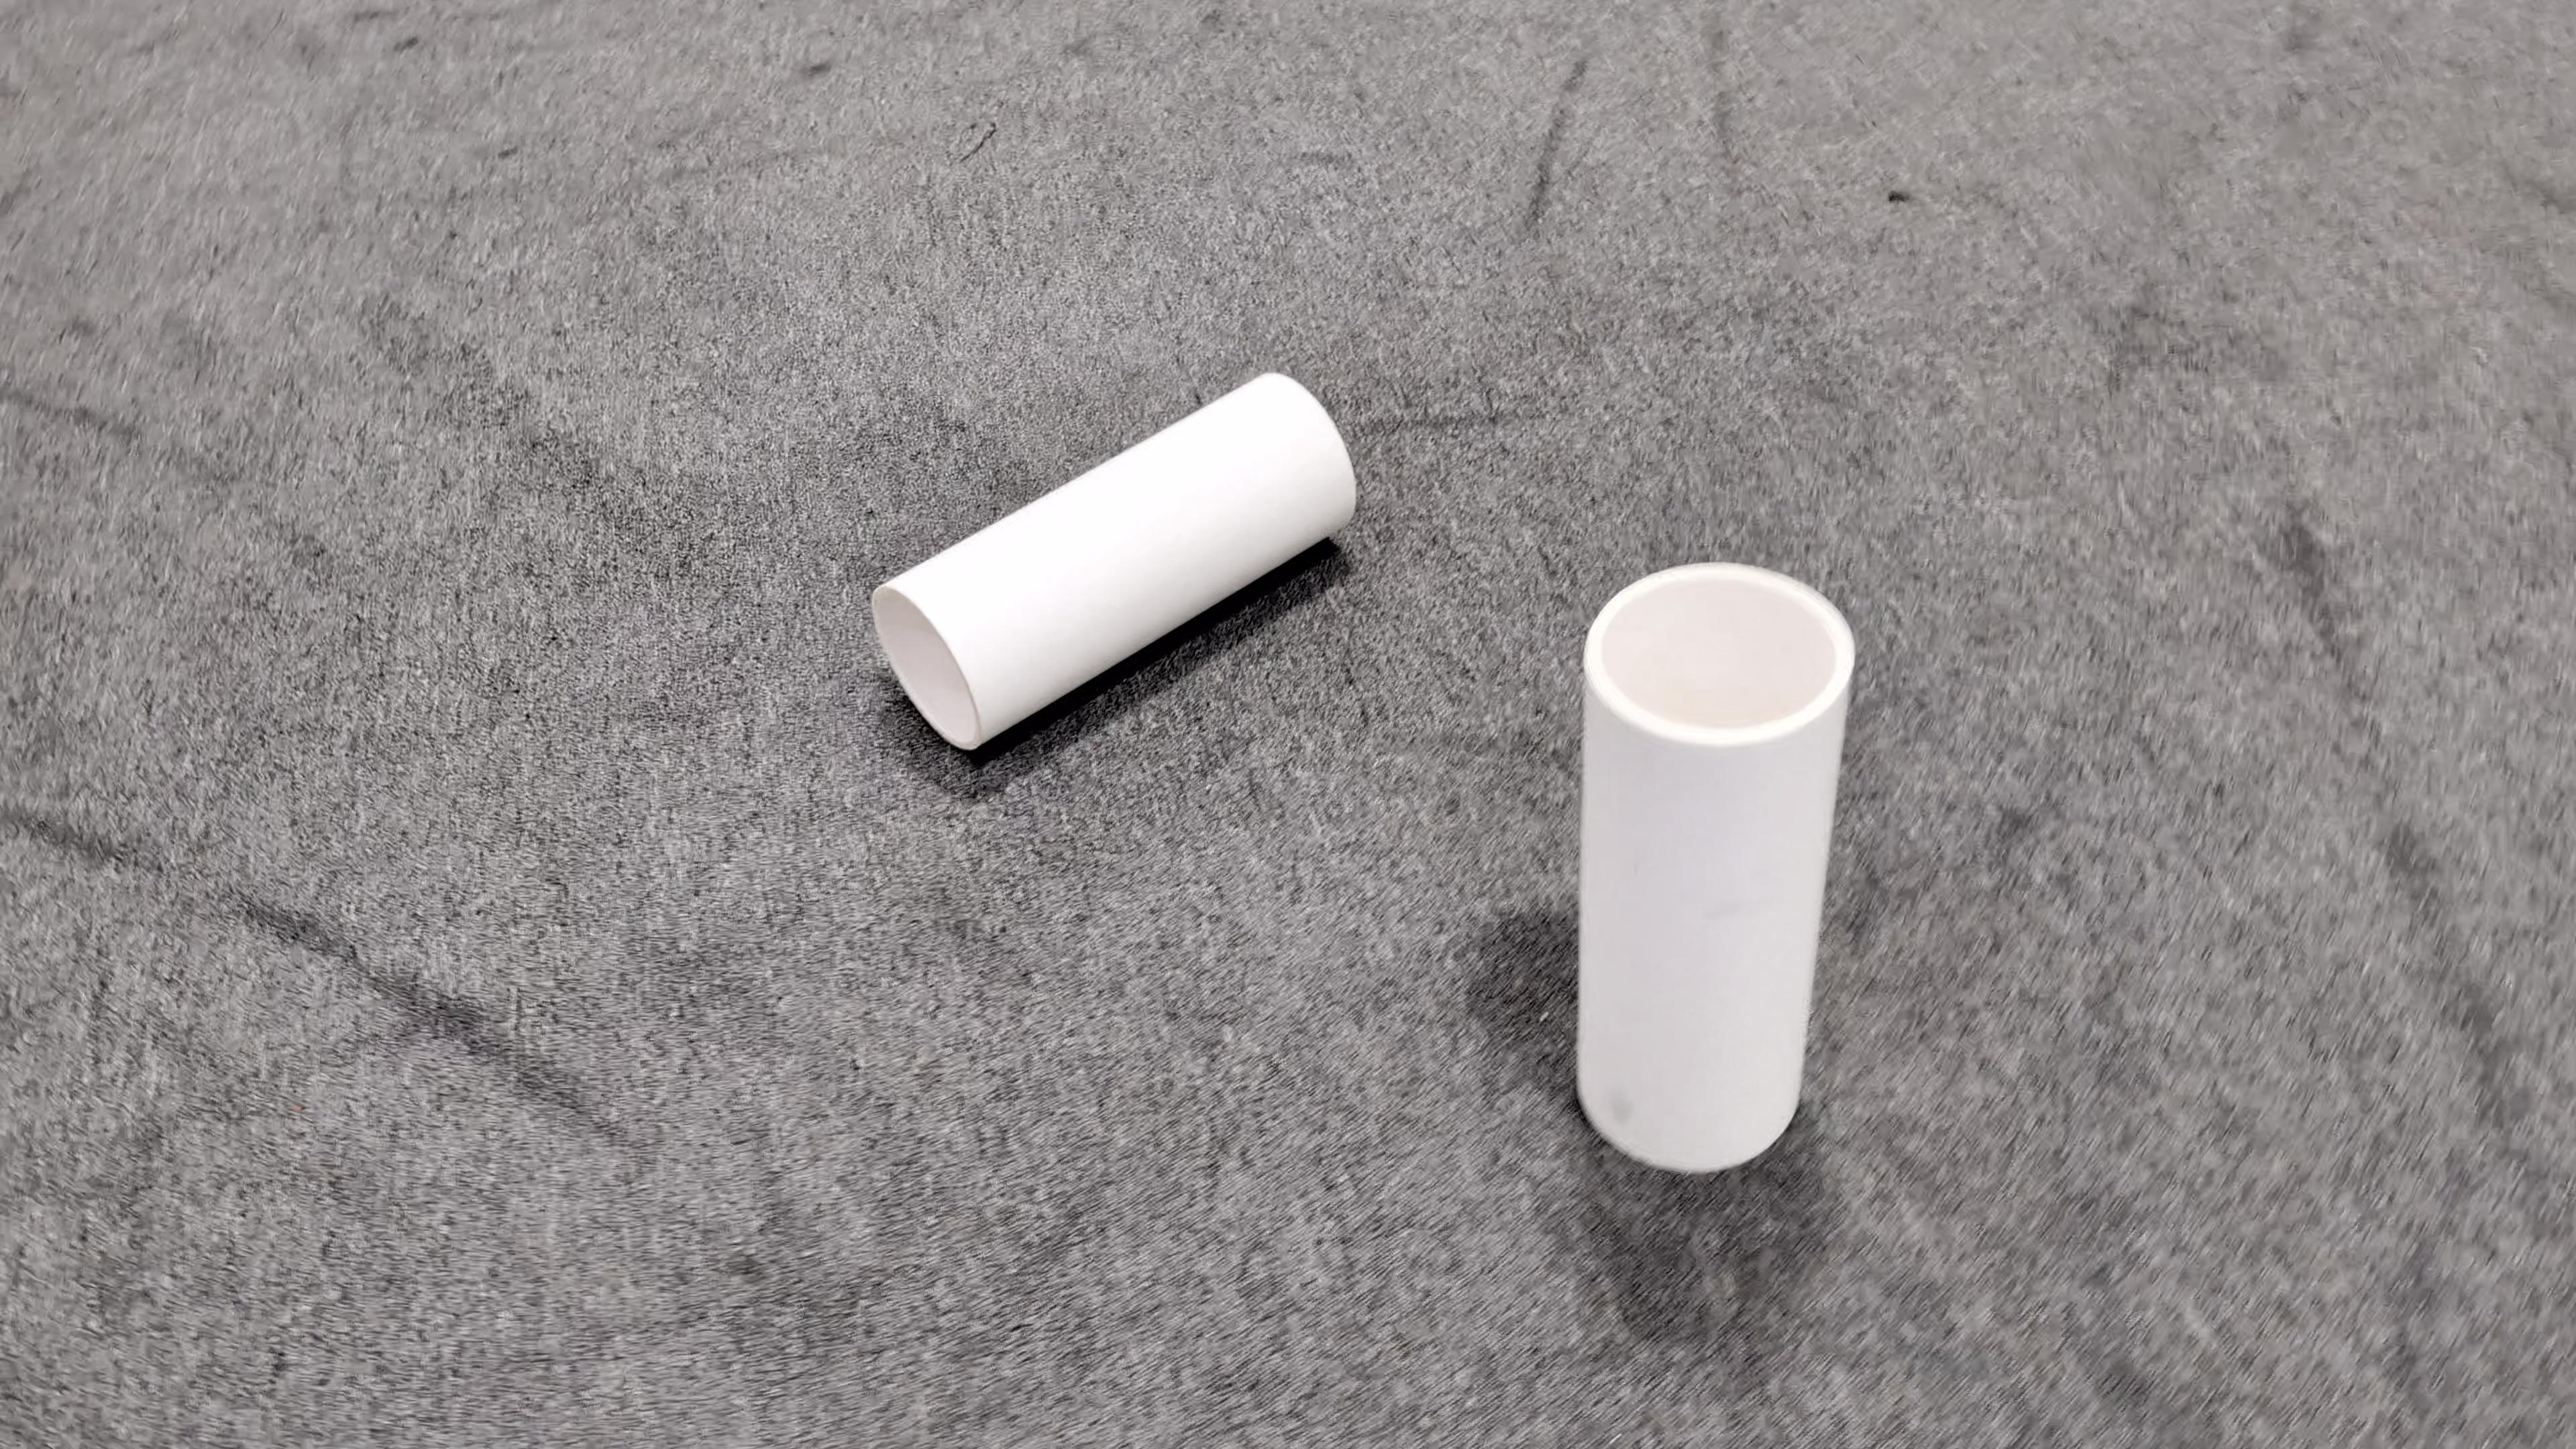coral: (869, 370, 1357, 750), (1578, 563, 1856, 1177)
